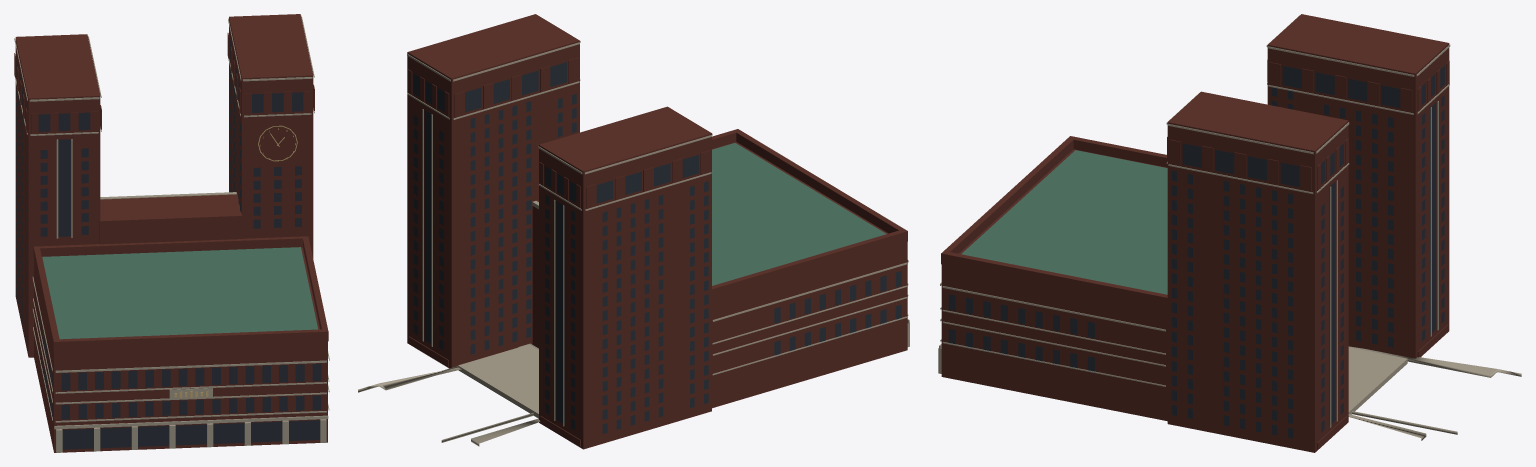
Rendered from oslo-city-hall-far.glb.
3 renders of one model, left to right at view 1: azimuth 30°, elevation 25°; view 2: azimuth 150°, elevation 25°; view 3: azimuth 270°, elevation 25°, orthographic. The views are drawn at different scales.
Visible parts, largest first — view 1: oslo-city-hall-0-brick, oslo-city-hall-0-copper, oslo-city-hall-0-glass, oslo-city-hall-0-stone, oslo-city-hall-0-brass; view 2: oslo-city-hall-0-brick, oslo-city-hall-0-glass, oslo-city-hall-0-copper, oslo-city-hall-0-stone; view 3: oslo-city-hall-0-brick, oslo-city-hall-0-glass, oslo-city-hall-0-copper, oslo-city-hall-0-stone.
Boxes of the visible parts, x1,y1,x2,y2 form: oslo-city-hall-0-brick: (14,14,328,452); oslo-city-hall-0-copper: (42,247,318,339); oslo-city-hall-0-glass: (16,39,321,449); oslo-city-hall-0-stone: (14,15,329,452); oslo-city-hall-0-brass: (174,125,297,397); oslo-city-hall-0-brick: (407,14,907,449); oslo-city-hall-0-glass: (413,62,901,433); oslo-city-hall-0-copper: (712,143,886,285); oslo-city-hall-0-stone: (358,41,909,446); oslo-city-hall-0-brick: (941,14,1449,452); oslo-city-hall-0-glass: (948,65,1444,438); oslo-city-hall-0-copper: (961,150,1167,294); oslo-city-hall-0-stone: (938,16,1521,440).
Bounding box in the file's own units: 91.03 × 66 × 116.
